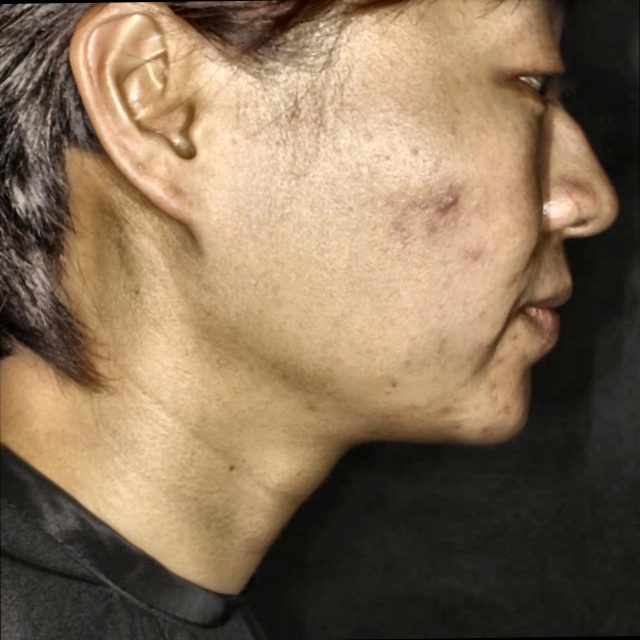comedone: (433, 184, 465, 211)
